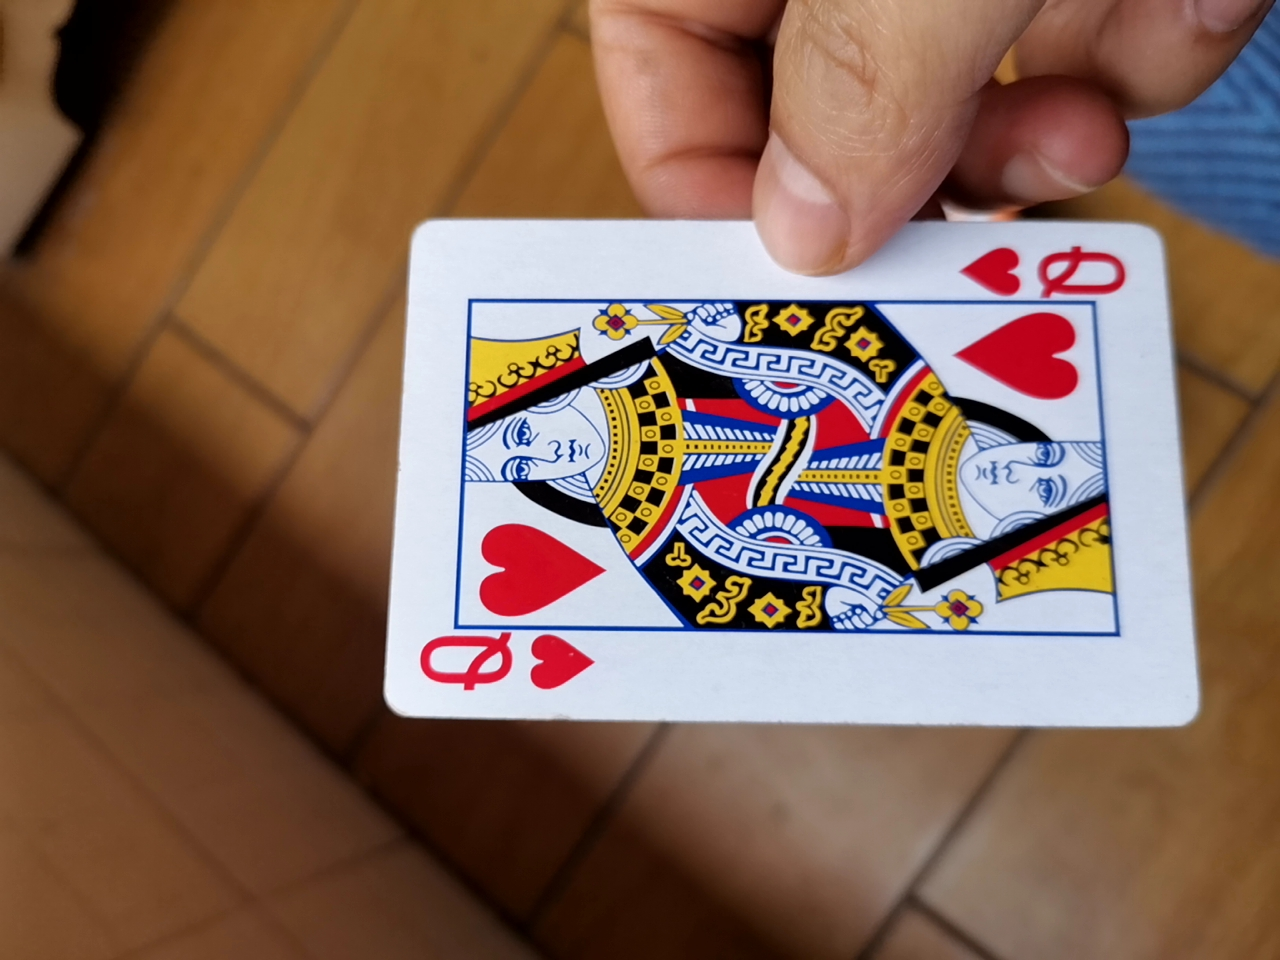hx q: (361, 211, 1179, 740)
